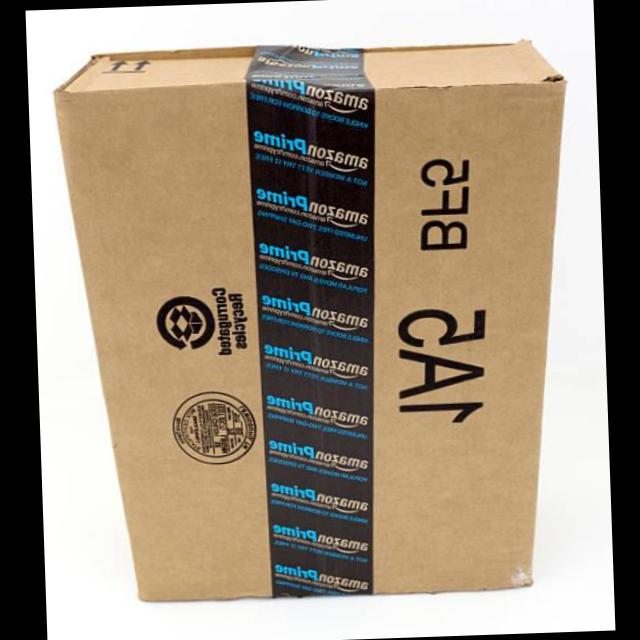box: (48, 36, 586, 606)
